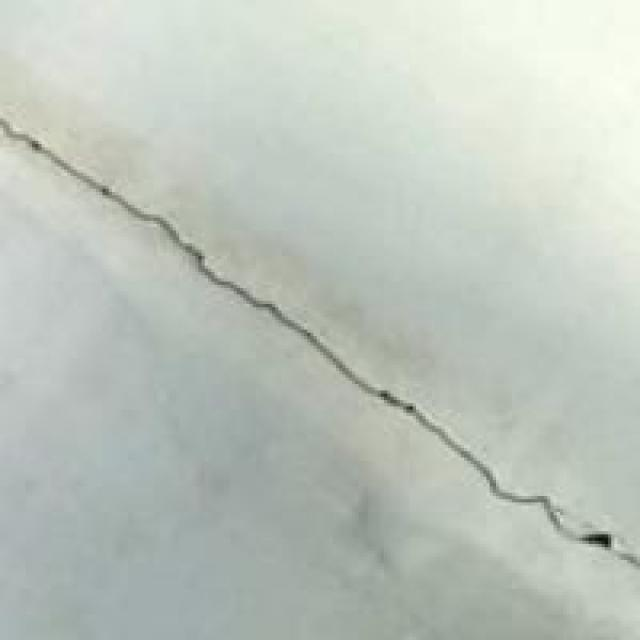crack: (0, 106, 637, 570)
